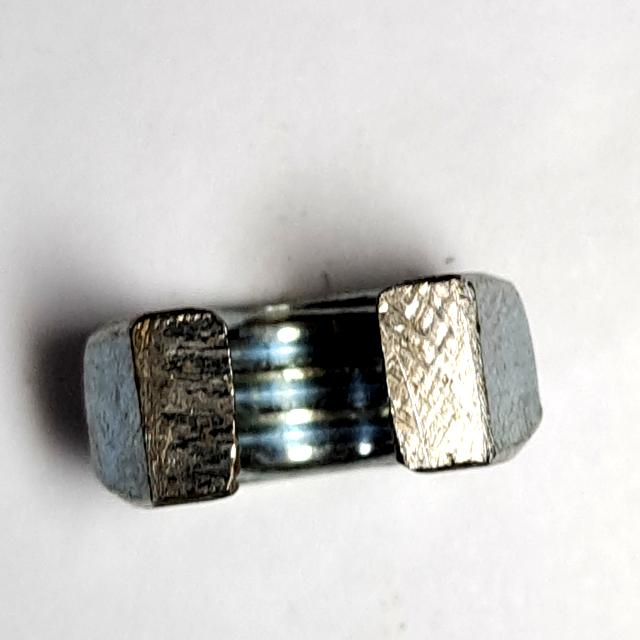Side-Fracture: (77, 261, 557, 527)
